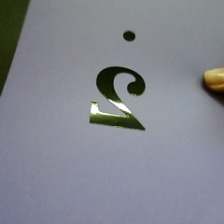violet2: (84, 27, 155, 139)
